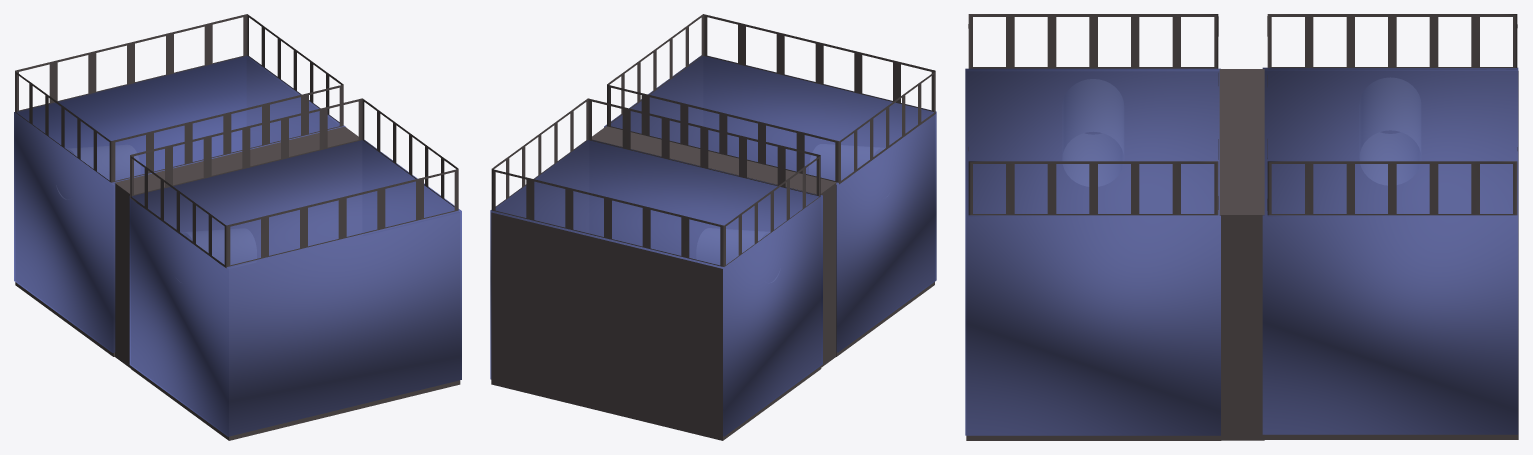
File: prrasedimentasi.glb
The picture shows the model from 3 angles, left to right: view 1: azimuth 30°, elevation 25°; view 2: azimuth 150°, elevation 25°; view 3: azimuth 270°, elevation 25°; orthographic projection. The views are drawn at different scales.
Parts seen in each view (by area): view 1: Cube, Cube.001, Cube.003, Cube.002, Cube.004, Plane, Plane.001, Cylinder, Cylinder.001; view 2: Cube.002, Cube.003, Cube, Cube.001, Cube.004, Plane.001, Plane, Cylinder.001, Cylinder; view 3: Cube, Cube.003, Cube.002, Cube.001, Cube.004, Plane.001, Plane, Cylinder, Cylinder.001.
Part boxes in pixels (box(x1,y1,x2,y2)): Cube: box(129, 140, 461, 436); Cube.001: box(131, 142, 460, 440); Cube.003: box(14, 55, 345, 352); Cube.002: box(15, 58, 338, 356); Cube.004: box(115, 126, 361, 368); Plane: box(130, 98, 458, 268); Plane.001: box(15, 14, 343, 183); Cylinder: box(182, 229, 256, 268); Cylinder.001: box(60, 145, 139, 195); Cube.002: box(491, 142, 821, 440); Cube.003: box(490, 140, 822, 436); Cube: box(604, 55, 936, 352); Cube.001: box(611, 57, 934, 356); Cube.004: box(590, 126, 836, 367); Plane.001: box(491, 98, 820, 267); Plane: box(607, 14, 935, 184); Cylinder.001: box(697, 228, 777, 281); Cylinder: box(809, 144, 884, 180); Cube: box(965, 68, 1220, 435); Cube.003: box(1262, 67, 1518, 434); Cube.002: box(1264, 71, 1518, 439); Cube.001: box(966, 72, 1221, 440); Cube.004: box(1219, 69, 1264, 440); Plane.001: box(1267, 14, 1517, 216); Plane: box(968, 14, 1218, 216); Cylinder: box(1063, 79, 1123, 185); Cylinder.001: box(1360, 78, 1420, 184).
Size of the model in its own units: 10.43 by 9.14 by 16.4.
